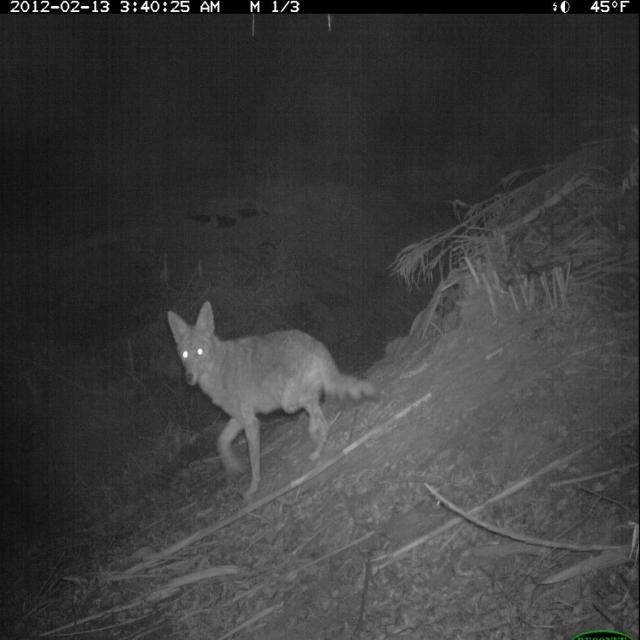coyote: (160, 299, 383, 503)
